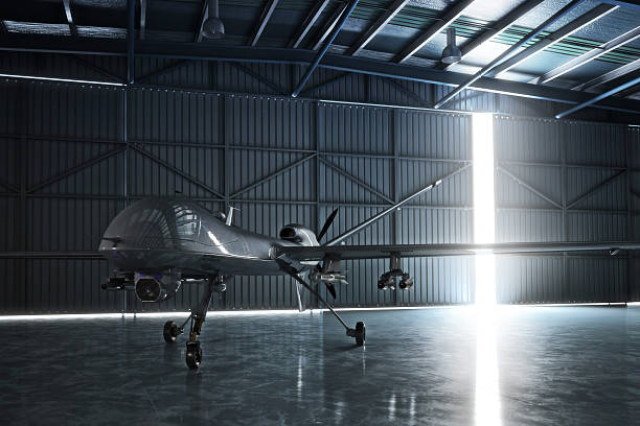military drone: (0, 179, 640, 370)
